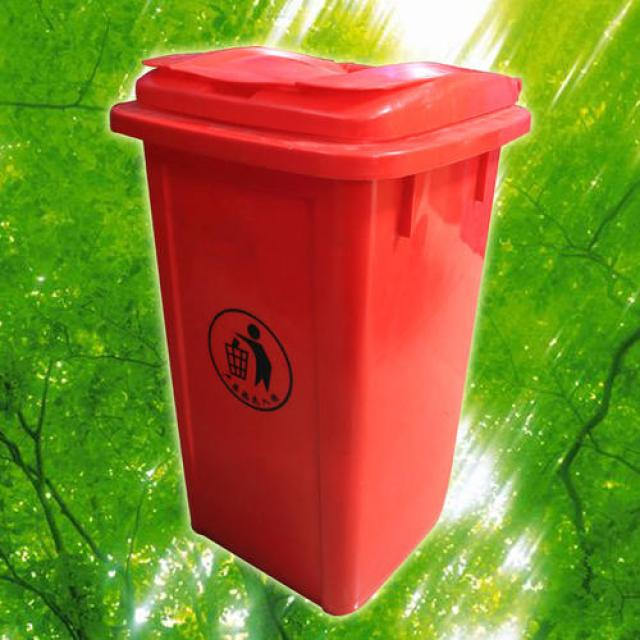garbage_bin: (107, 45, 530, 614)
